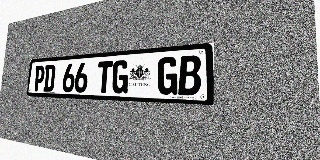6: (74, 62, 89, 93), (62, 63, 76, 92)
B: (178, 55, 201, 96)
D: (43, 65, 56, 92)
G: (157, 56, 178, 95), (111, 60, 129, 94)
P: (33, 65, 45, 91)
T: (96, 61, 113, 93)
